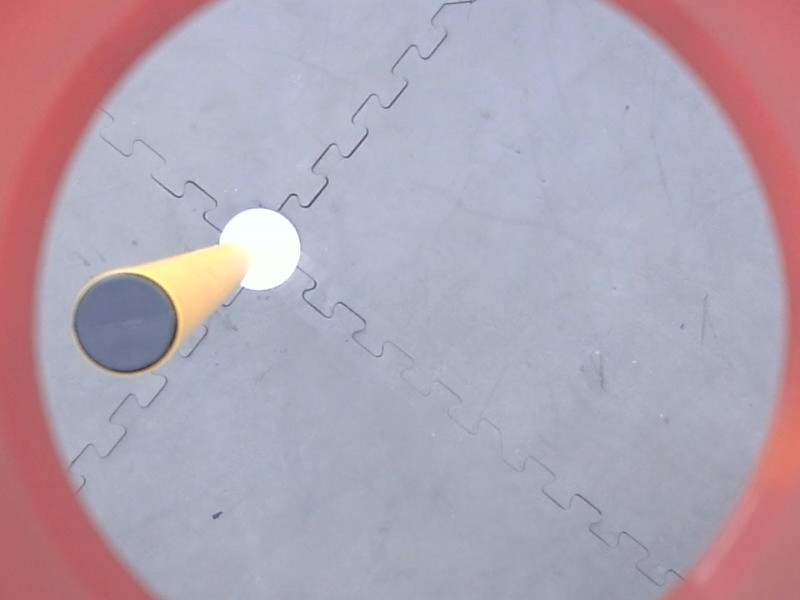tip: (63, 264, 187, 383)
